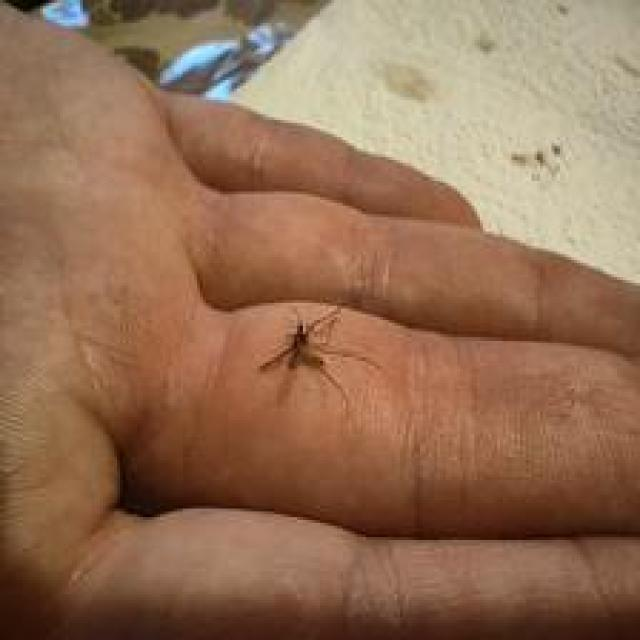Culex: (257, 304, 380, 410)
